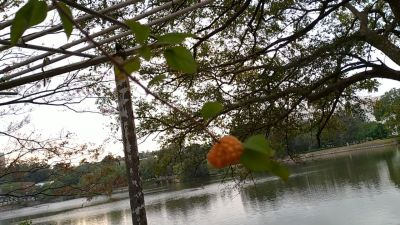eggs: (206, 133, 243, 168)
